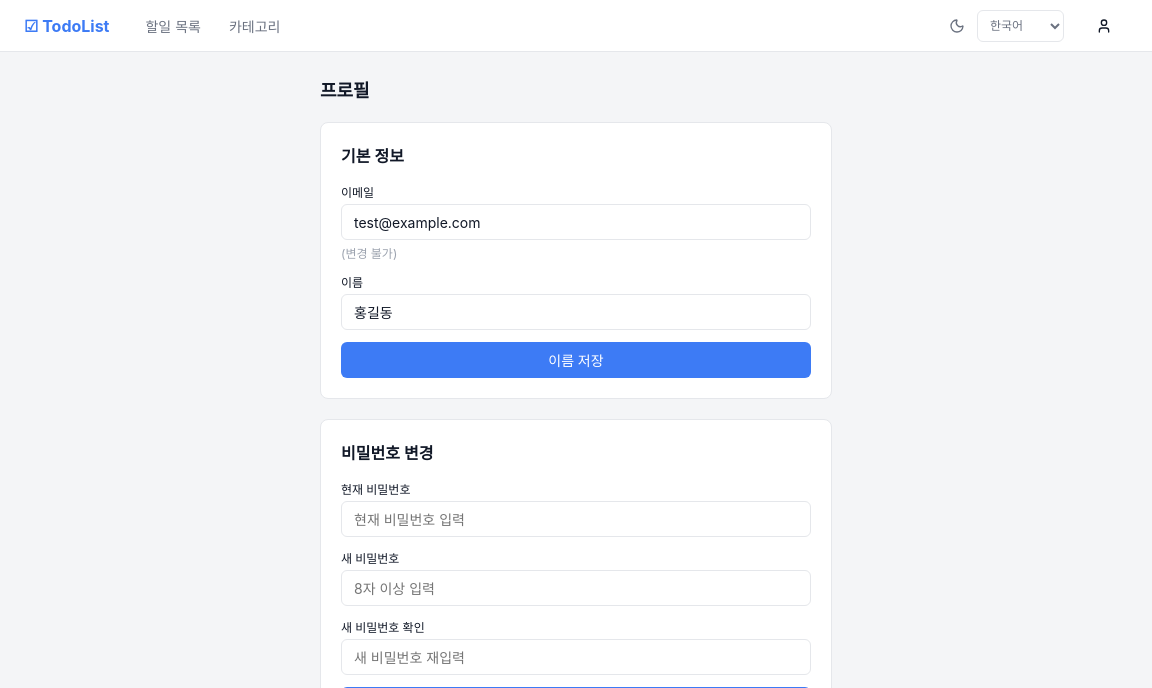
Scenario: ProfilePage 비밀번호 변경 유효성 › 새 비밀번호 불일치 시 에러
Type "oldpass123" into the password field with placeholder "현재 비밀번호 입력" at (576, 519), box [341,501,811,537]
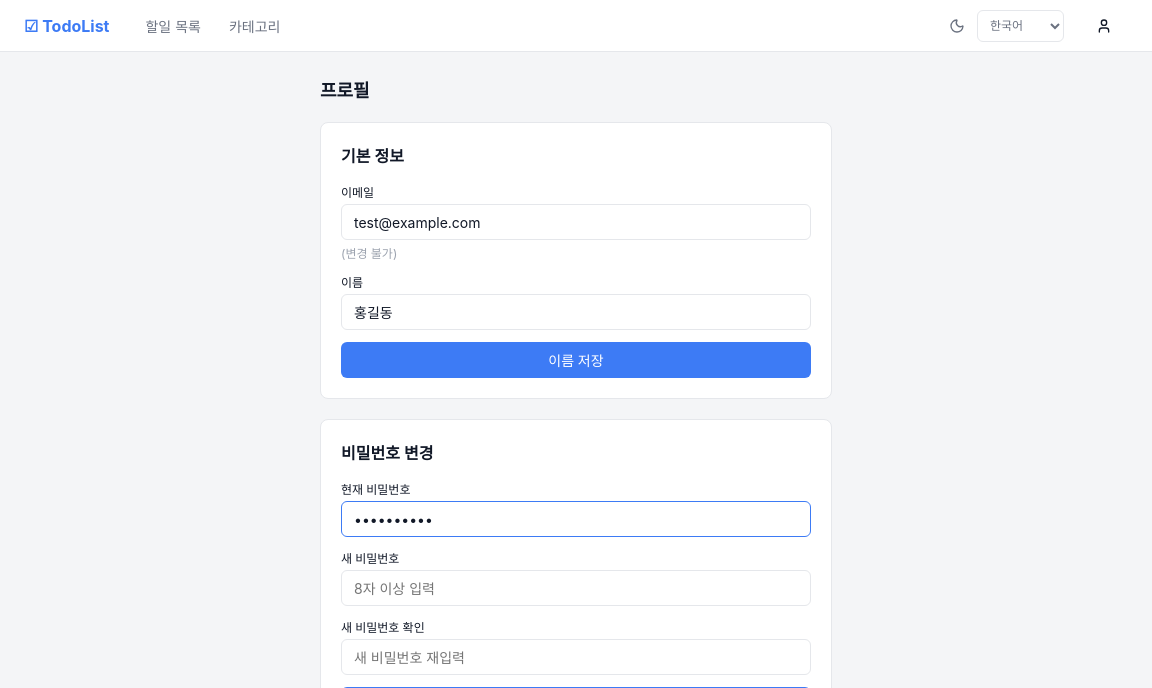
Type "newpass123" into the password field with placeholder "8자 이상 입력" at (576, 588), box [341,570,811,606]
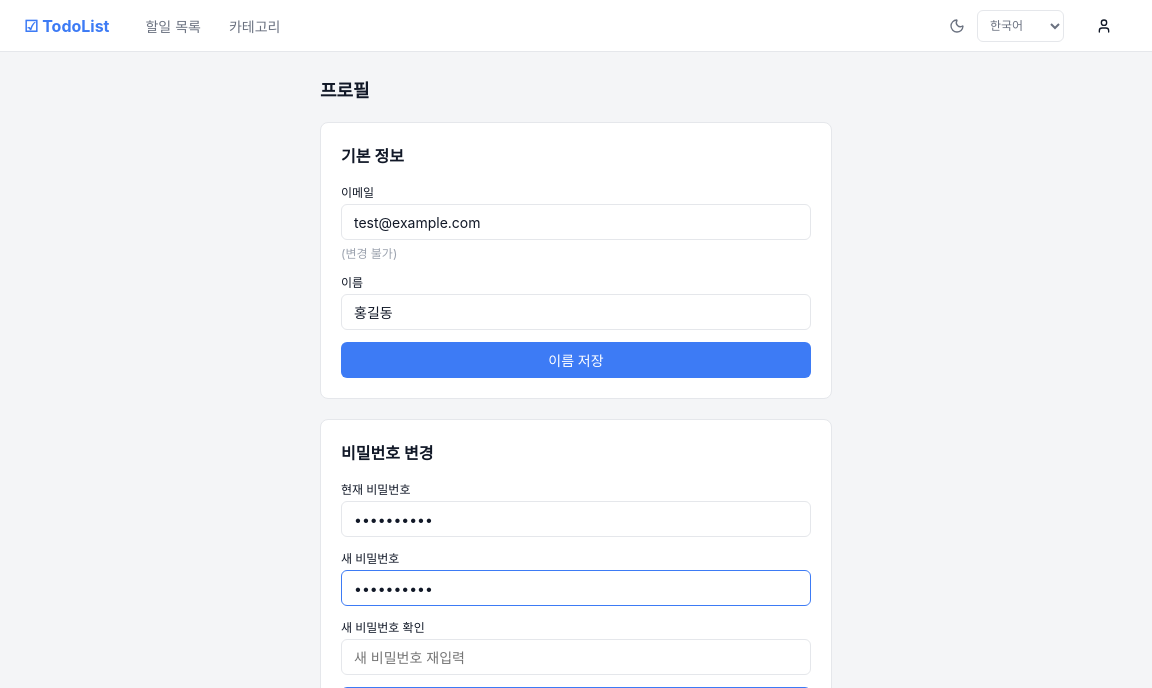
Type "different1" into the password field with placeholder "새 비밀번호 재입력" at (576, 657), box [341,639,811,675]
(page scrolled)
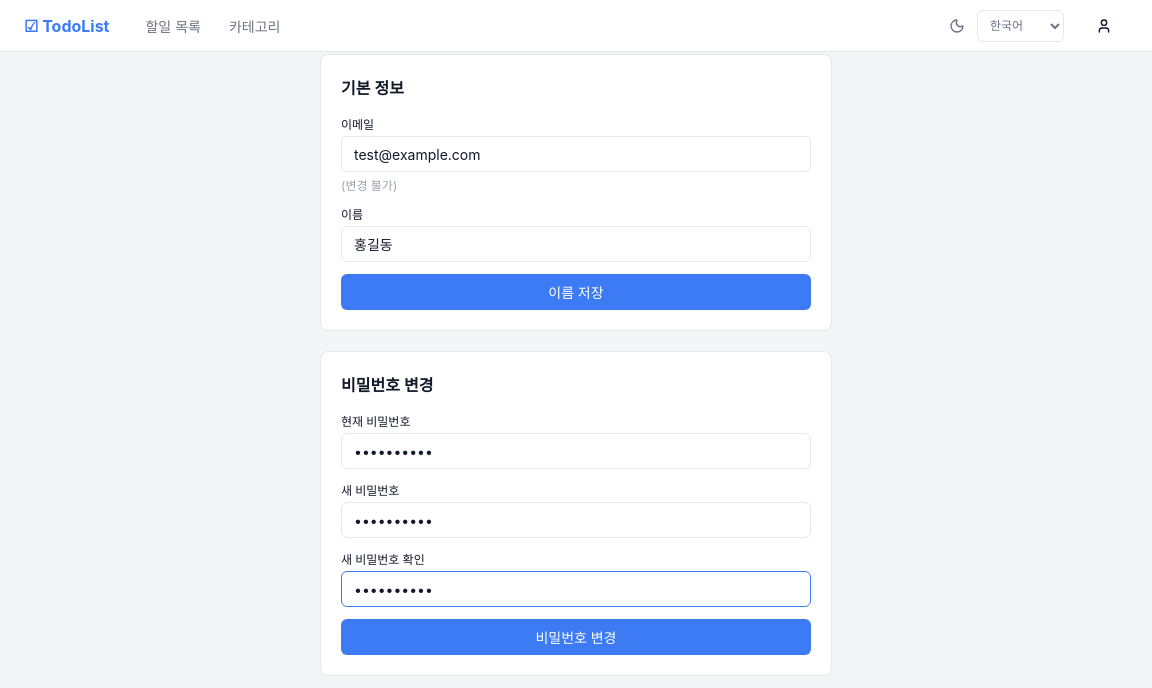
Click the button "비밀번호 변경" at (576, 637), box [341,619,811,655]
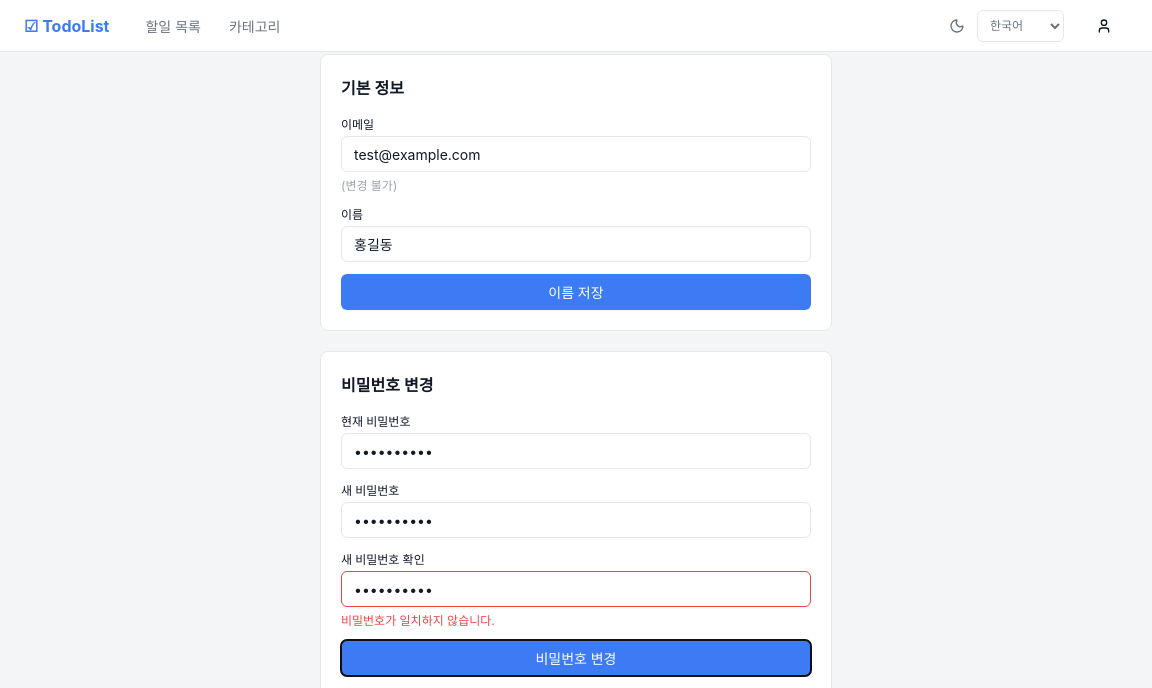
Expected: the text "비밀번호가 일치하지 않습니다." is shown, [341,613,495,628]
